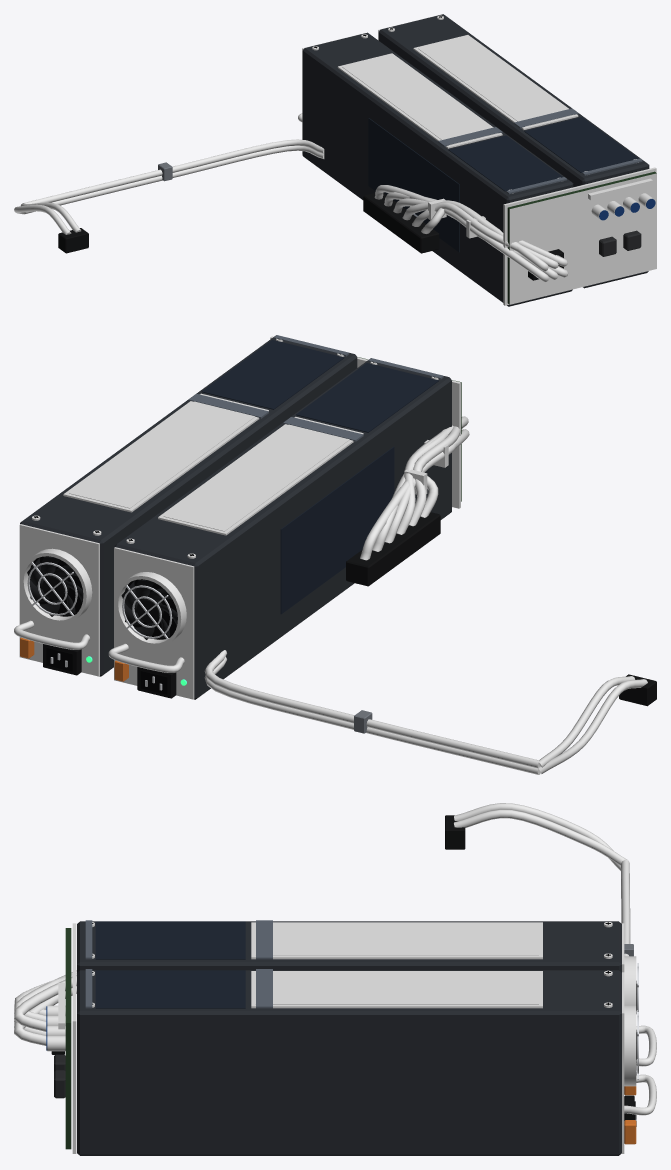
The model's file is hwm_psu_2000w_tit.glb.
3 renders of one model, top to bottom at view 1: azimuth 30°, elevation 25°; view 2: azimuth 150°, elevation 25°; view 3: azimuth 270°, elevation 25°, orthographic. The views are drawn at different scales.
Visible parts, largest first — view 1: Body, Cable_ATX24, Cable_EPS_Run, Cable_EPS_Plug; view 2: Body, Cable_ATX24, Cable_EPS_Run, Cable_EPS_Plug; view 3: Body, Cable_EPS_Plug, Cable_ATX24, Cable_EPS_Run.
Boxes of the visible parts, box(x1,y1,x2,y2) form: Body: box(298, 14, 656, 306); Cable_ATX24: box(363, 185, 568, 281); Cable_EPS_Run: box(23, 139, 324, 214); Cable_EPS_Plug: box(14, 202, 88, 253); Body: box(14, 335, 461, 699); Cable_ATX24: box(346, 416, 469, 586); Cable_EPS_Run: box(204, 650, 540, 774); Cable_EPS_Plug: box(538, 674, 656, 773); Body: box(46, 920, 656, 1155); Cable_EPS_Plug: box(445, 803, 627, 870); Cable_ATX24: box(14, 970, 76, 1054); Cable_EPS_Run: box(621, 859, 633, 956).
Size of the model in its own units: 0.4035 by 0.0958 by 0.3776.
